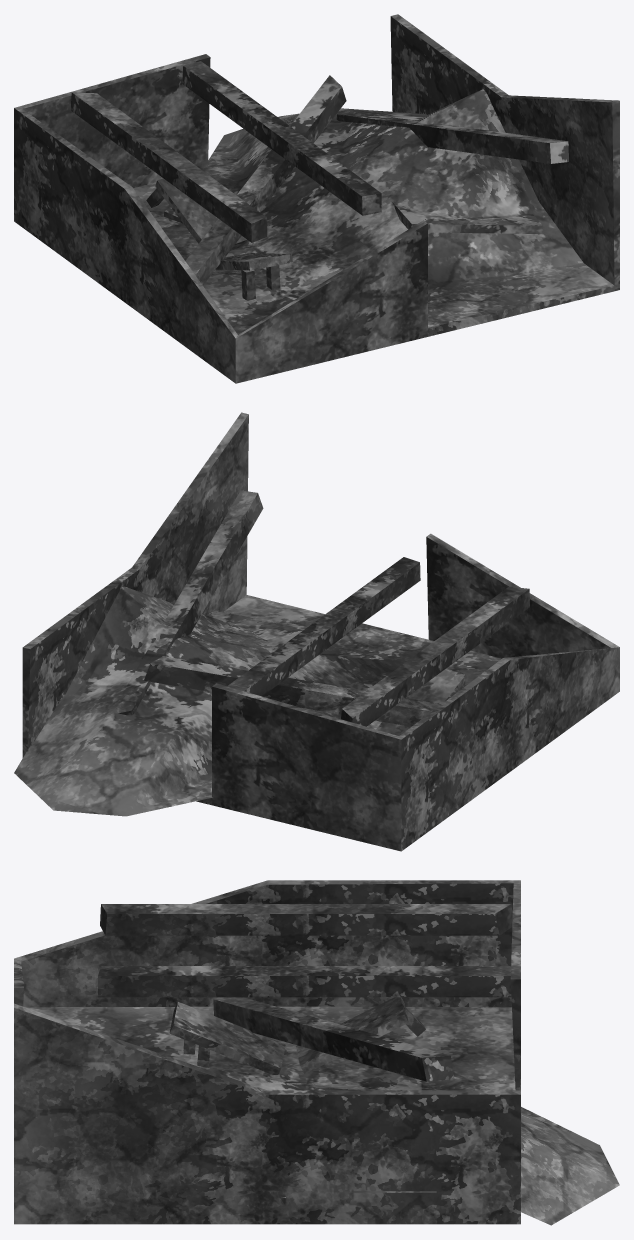
File: HouseDestroyed1.fbx
3 views of the same model, one above another, from view 1: azimuth 30°, elevation 25°; view 2: azimuth 150°, elevation 25°; view 3: azimuth 270°, elevation 25° (orthographic). The views are drawn at different scales.
Visible parts, largest first — view 1: Dhouse1; view 2: Dhouse1; view 3: Dhouse1.
Part boxes in pixels (x1,y1,x2,y2): Dhouse1: [14, 14, 619, 383]; Dhouse1: [14, 412, 619, 851]; Dhouse1: [14, 880, 619, 1225].
Size of the model in its own units: 1370 by 655 by 1633.
